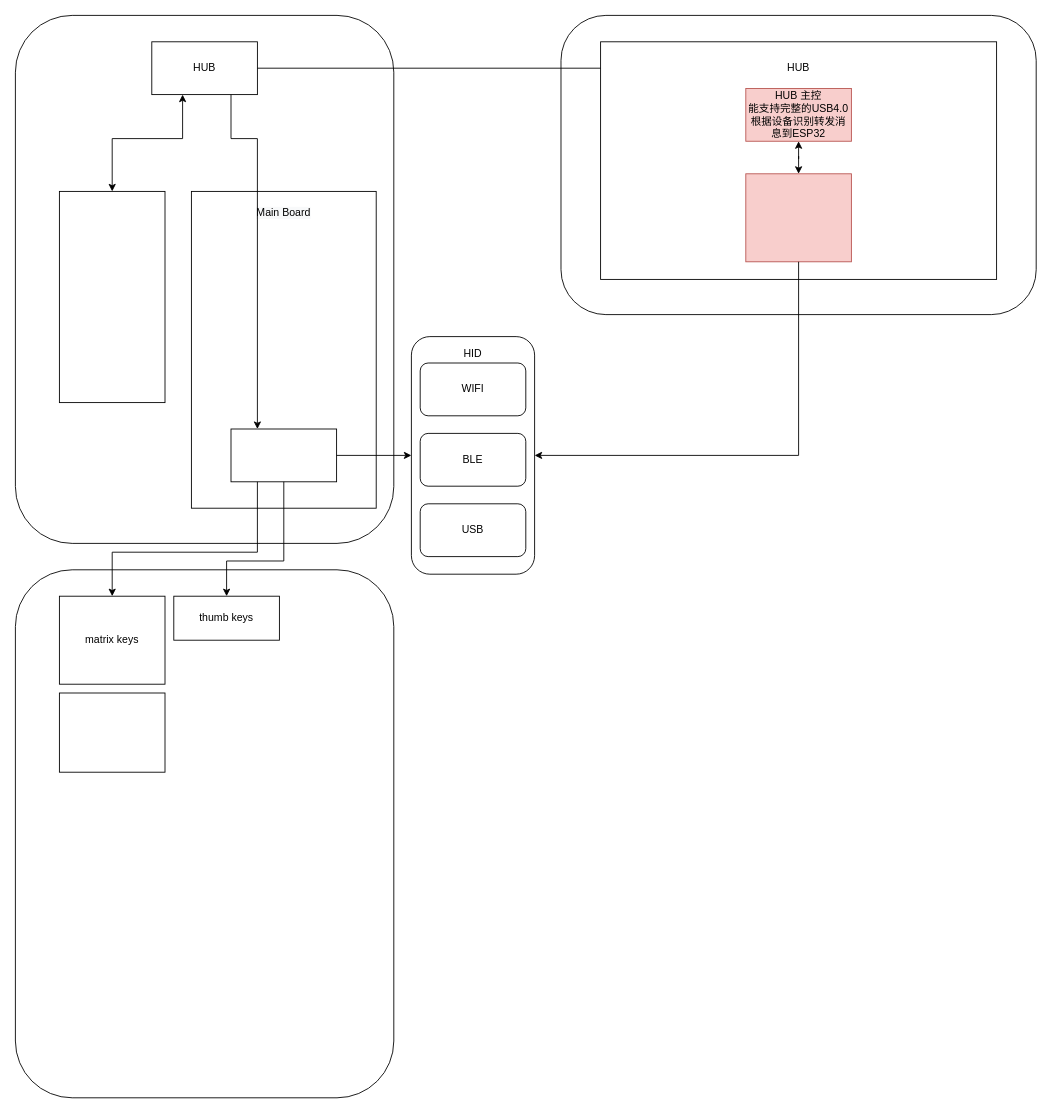
This 1052x1113 diagram has some shape labels left out. Each missing label, with the centre of its shape:
BAT: the point at 112,297
ESP32: the point at 283,455
ESP32 连接hub并且不连电脑的时候，两个蓝牙合并为一个蓝牙 这个esp32作为两个键盘的usb信号接收端: the point at 798,217
LCD/OLED 电量? 按键映射 键盘宏 快捷键: the point at 112,732
